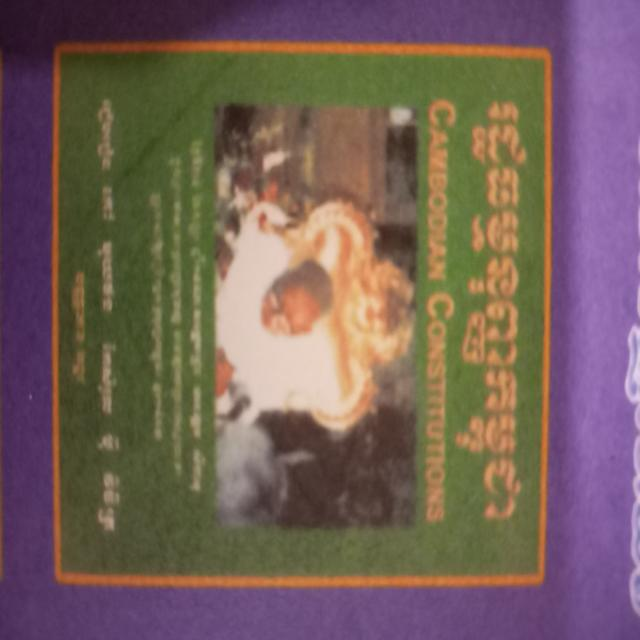Yolov11_80vkh: (452, 94, 536, 533)
